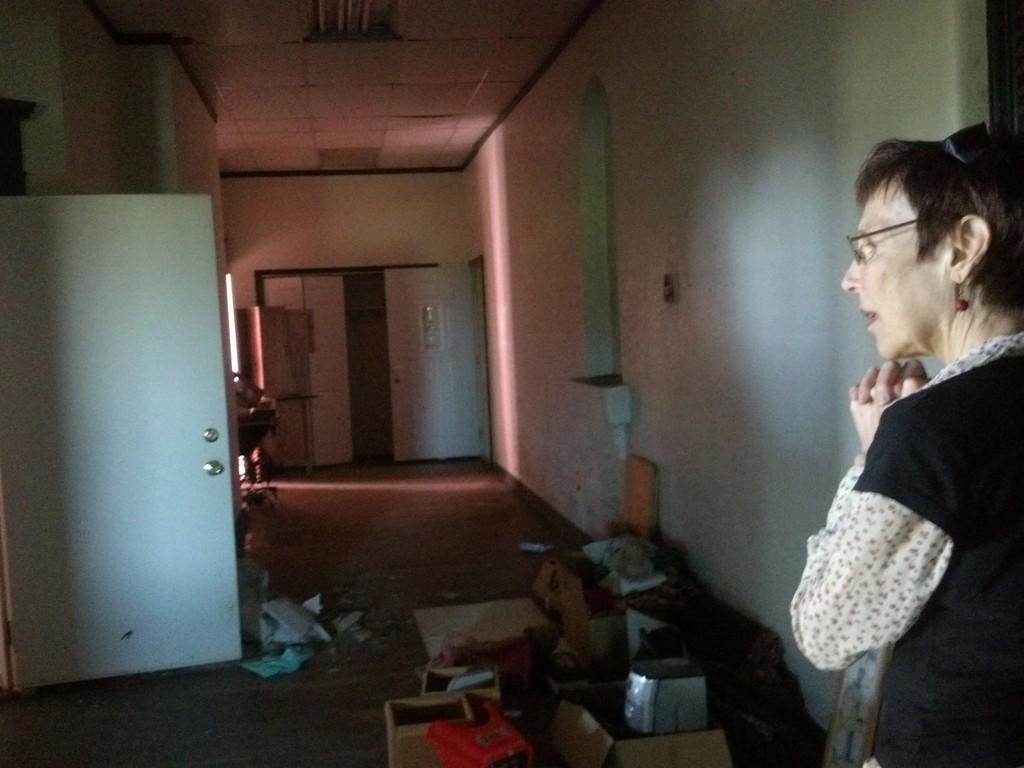door: (14, 212, 226, 659), (386, 268, 488, 466)
handle: (206, 456, 228, 486)
